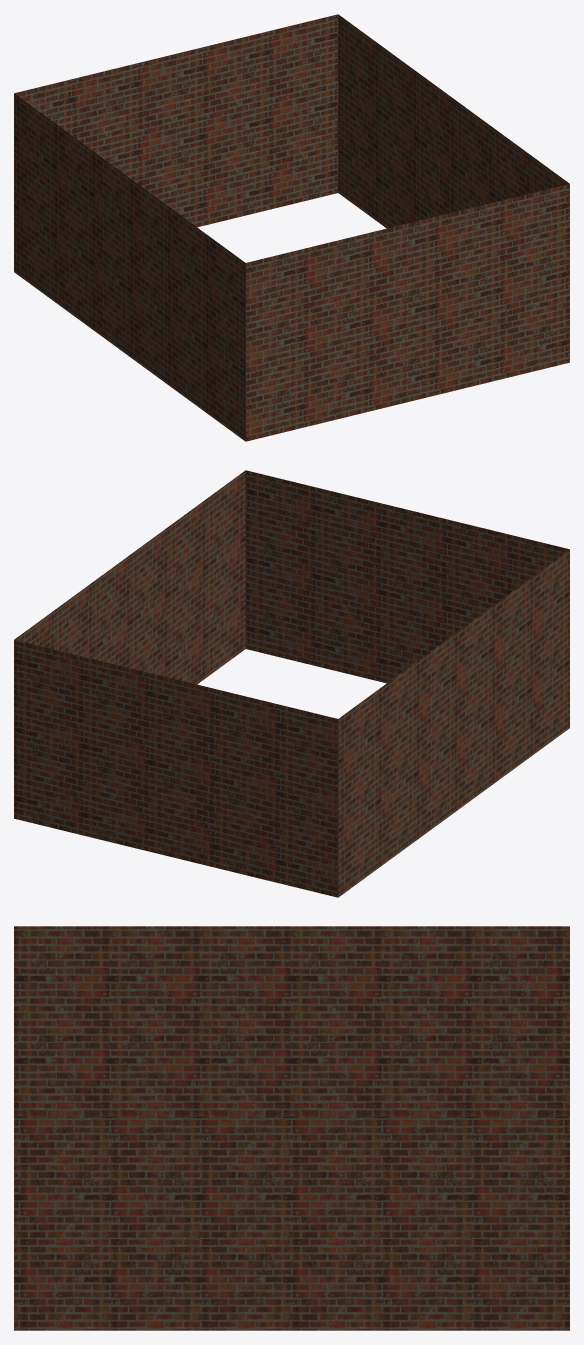
File: building.fbx
The picture shows the model from 3 angles, top to bottom: view 1: azimuth 30°, elevation 25°; view 2: azimuth 150°, elevation 25°; view 3: azimuth 270°, elevation 25°; orthographic projection. The views are drawn at different scales.
Parts seen in each view (by area): view 1: apartment_building; view 2: apartment_building; view 3: apartment_building.
Boxes of the visible parts, <box> form: apartment_building: <box>14,14,569,441</box>; apartment_building: <box>14,470,569,897</box>; apartment_building: <box>14,926,569,1330</box>.
Size of the model in its own units: 1909 by 1005 by 2363.
Materials: 1 (1 with a texture image).
